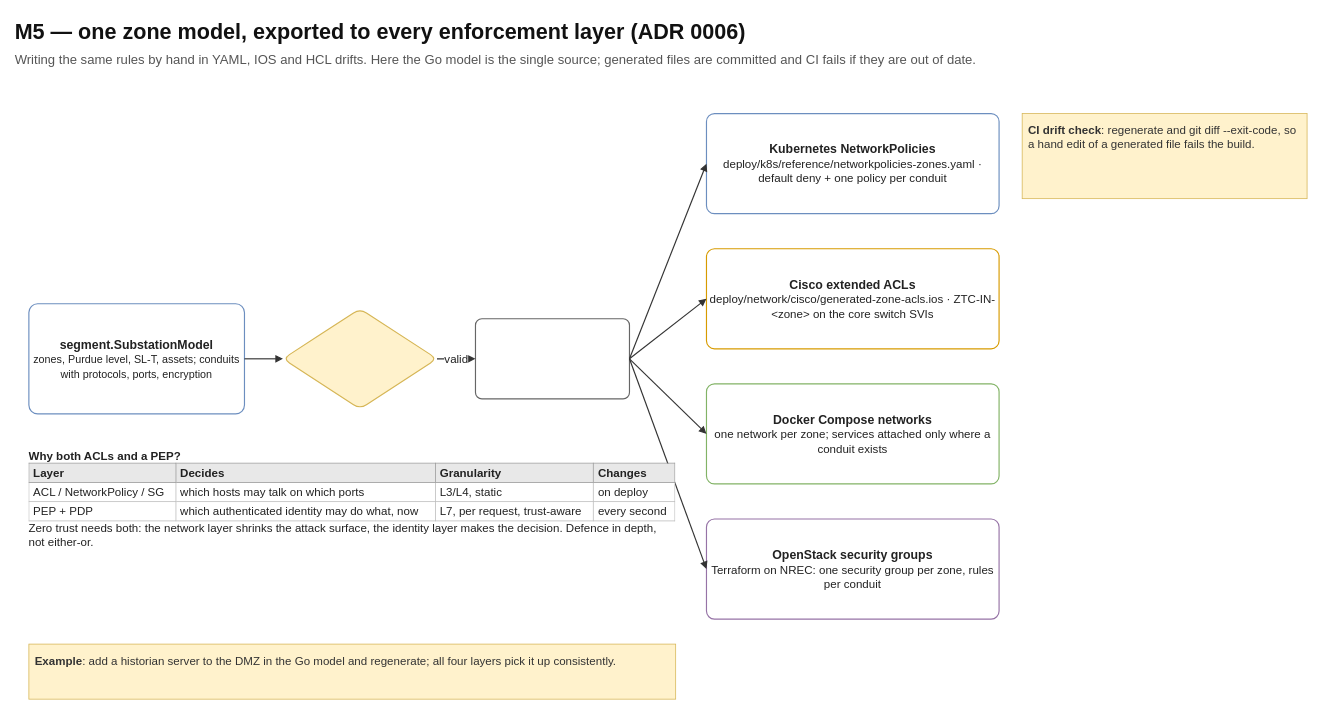
The diagram is 1321 pixels wide and 712 high, and some of its shapes have lost their labels. Each missing label, with the box of its shape:
Validate() zone rules: (282, 308, 437, 409)
ztcctl segment export make netpol: (475, 318, 630, 399)
